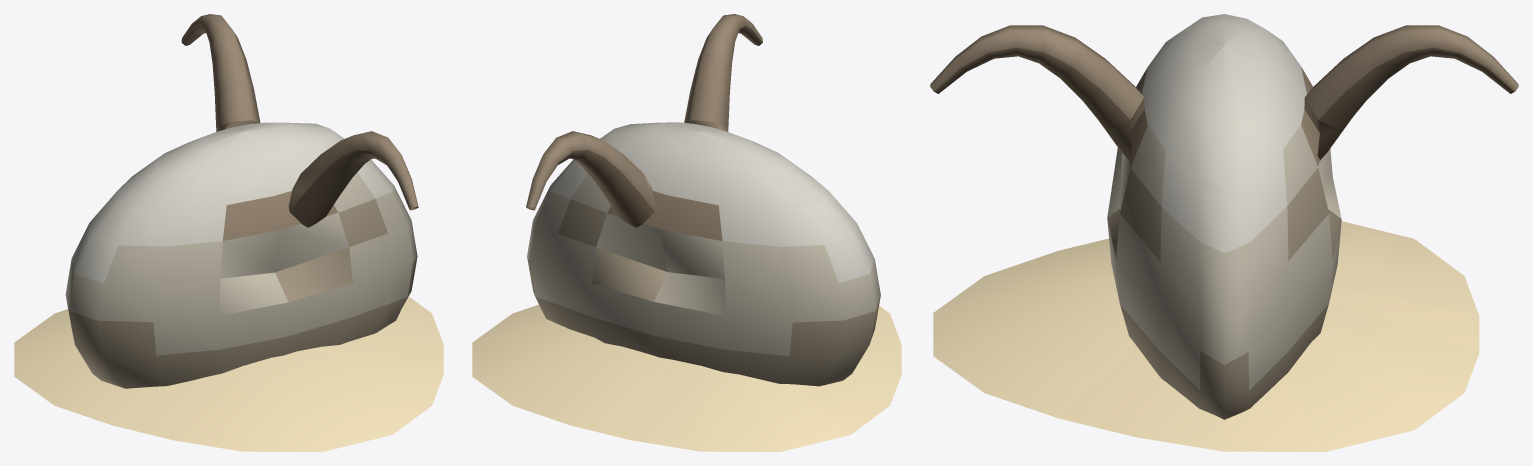
The model's file is Bone_Skull.glb.
The picture shows the model from 3 angles, left to right: view 1: azimuth 30°, elevation 25°; view 2: azimuth 150°, elevation 25°; view 3: azimuth 270°, elevation 25°; orthographic projection. The views are drawn at different scales.
Parts seen in each view (by area): view 1: BoneSkull; view 2: BoneSkull; view 3: BoneSkull.
Boxes of the visible parts, <box> form: BoneSkull: <box>14,14,443,451</box>; BoneSkull: <box>472,14,901,451</box>; BoneSkull: <box>930,14,1518,451</box>.
Size of the model in its own units: 1.3 by 1.03 by 1.38.
